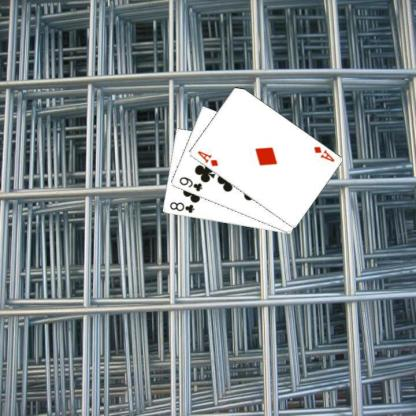8C: (167, 200, 195, 214)
9C: (176, 174, 204, 193)
AD: (195, 148, 219, 167), (311, 144, 335, 163)
